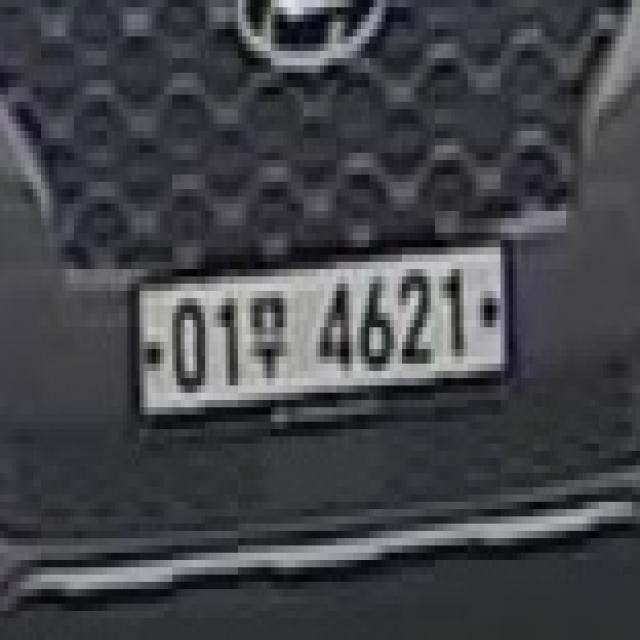0: (170, 283, 210, 405)
1: (440, 258, 473, 367), (215, 286, 242, 398)
2: (397, 261, 435, 374)
4: (312, 273, 355, 379)
6: (359, 264, 393, 384)
license_plate: (123, 201, 531, 461)
mu: (247, 285, 294, 390)
